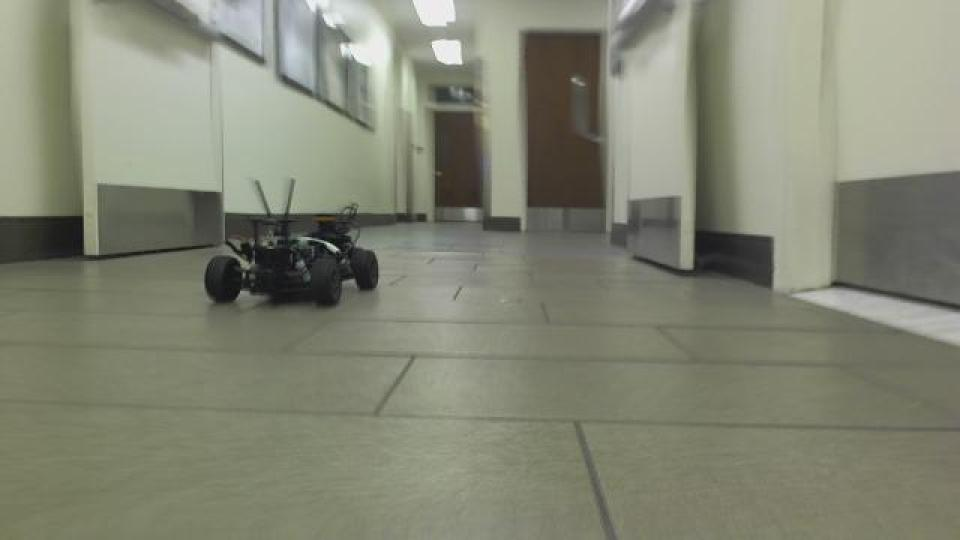car: (199, 174, 381, 310)
